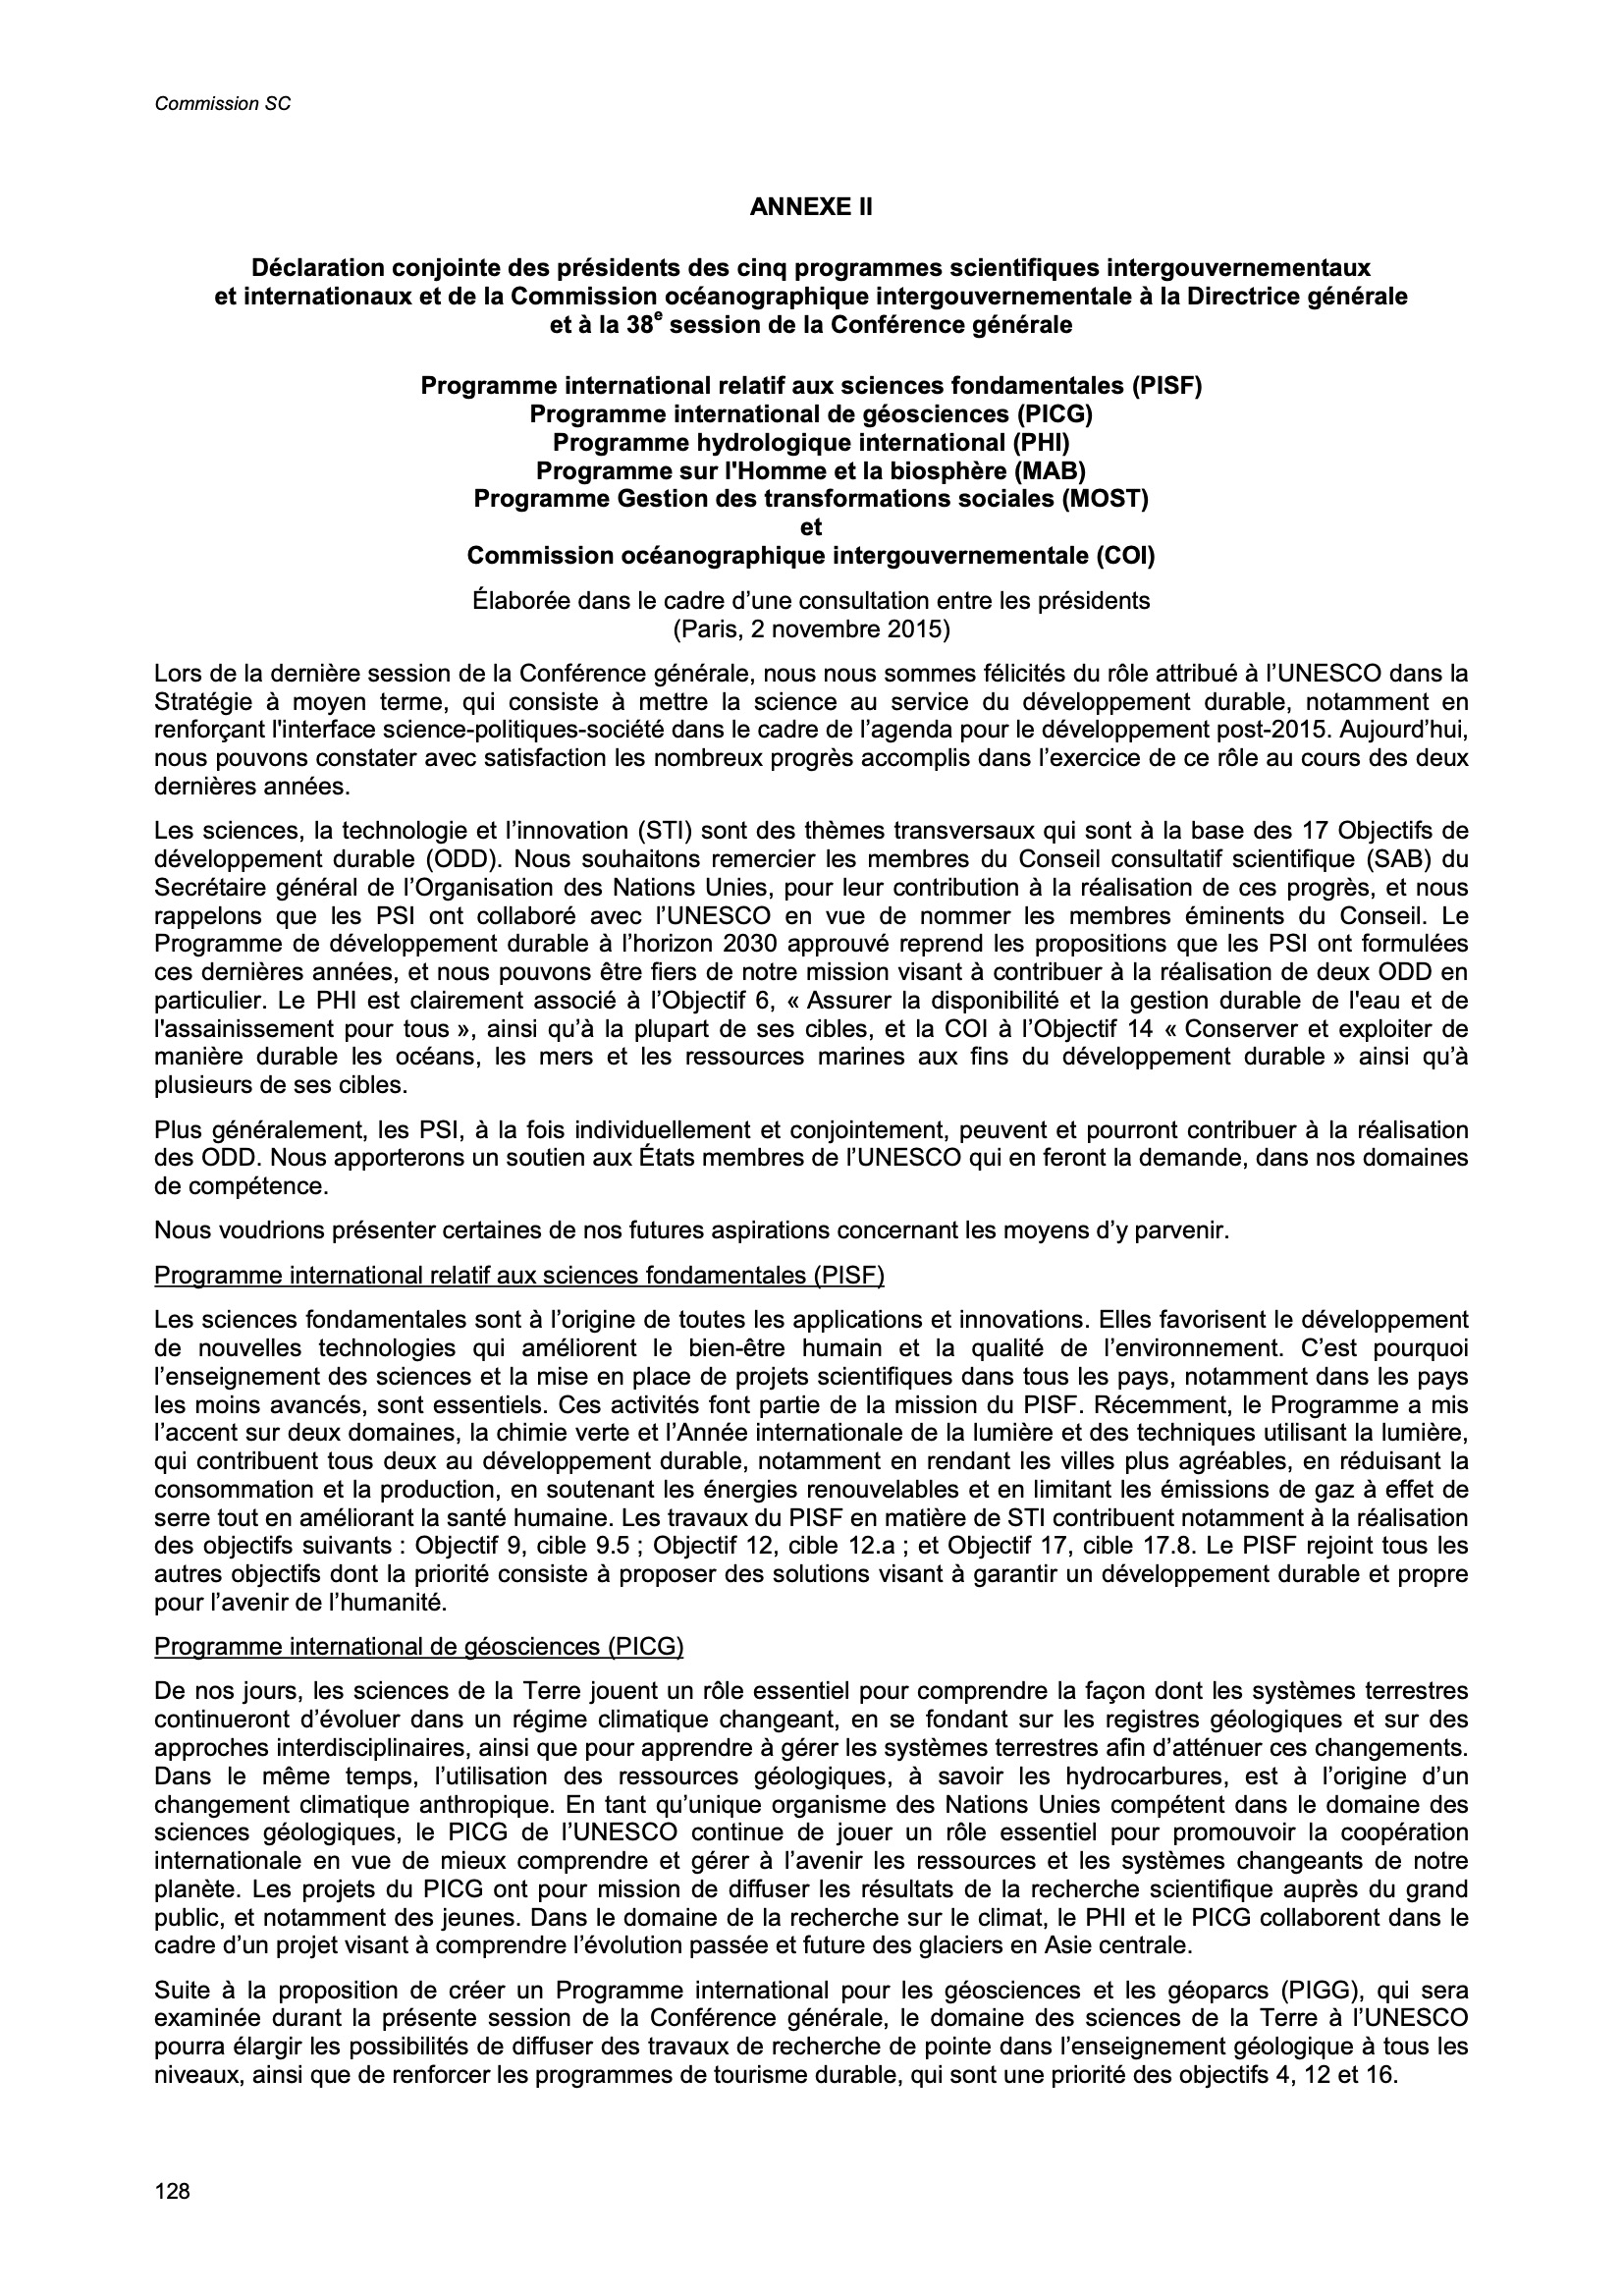MainZone-Head: (408, 360, 1245, 645), (197, 249, 1417, 344), (142, 1254, 900, 1299), (142, 1624, 694, 1667), (739, 186, 879, 229)
MainZone-P: (139, 1304, 1475, 1622), (140, 810, 1480, 1102), (138, 1673, 1479, 1962), (141, 653, 1477, 804), (142, 1971, 1481, 2101), (139, 1108, 1481, 1204), (141, 1206, 1273, 1251)
NumberingZone: (147, 2173, 196, 2211)
RunningTitleZone: (142, 82, 297, 123)
